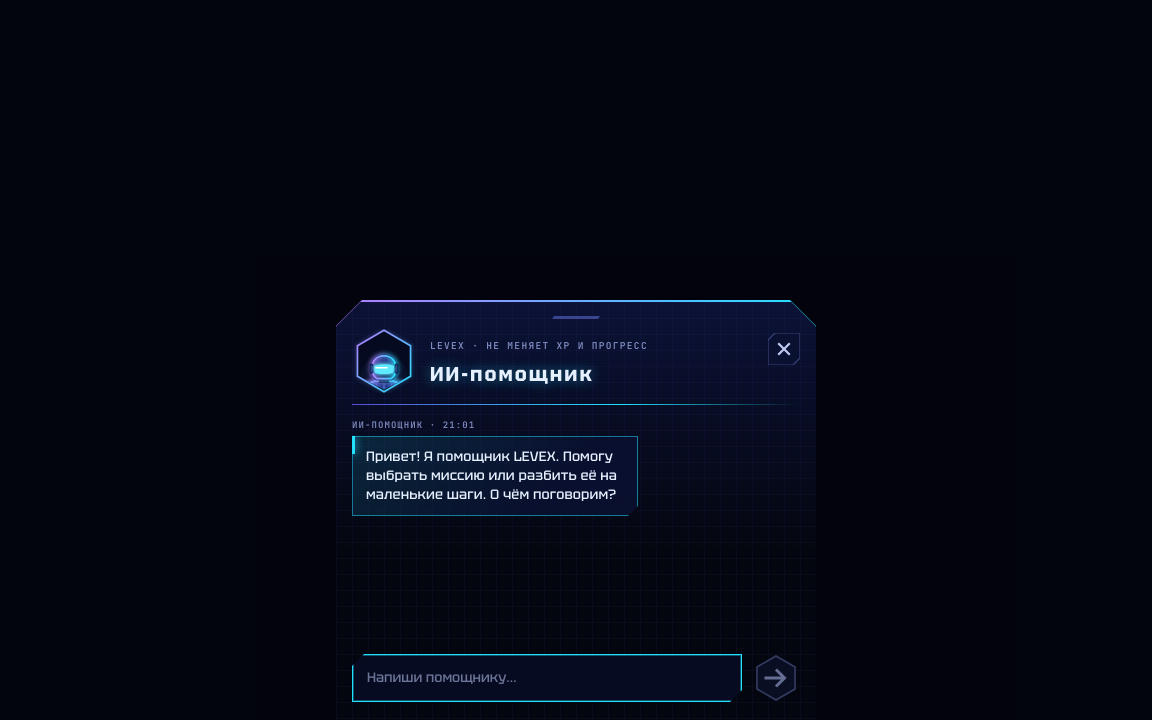
Scenario: AssistantChat › keeps the history for the next turn
The width and height of the screenshot is (1152, 720).
Type "Что делать?" into the text box named "Сообщение помощнику". click: (547, 678)
box: [352, 654, 742, 702]
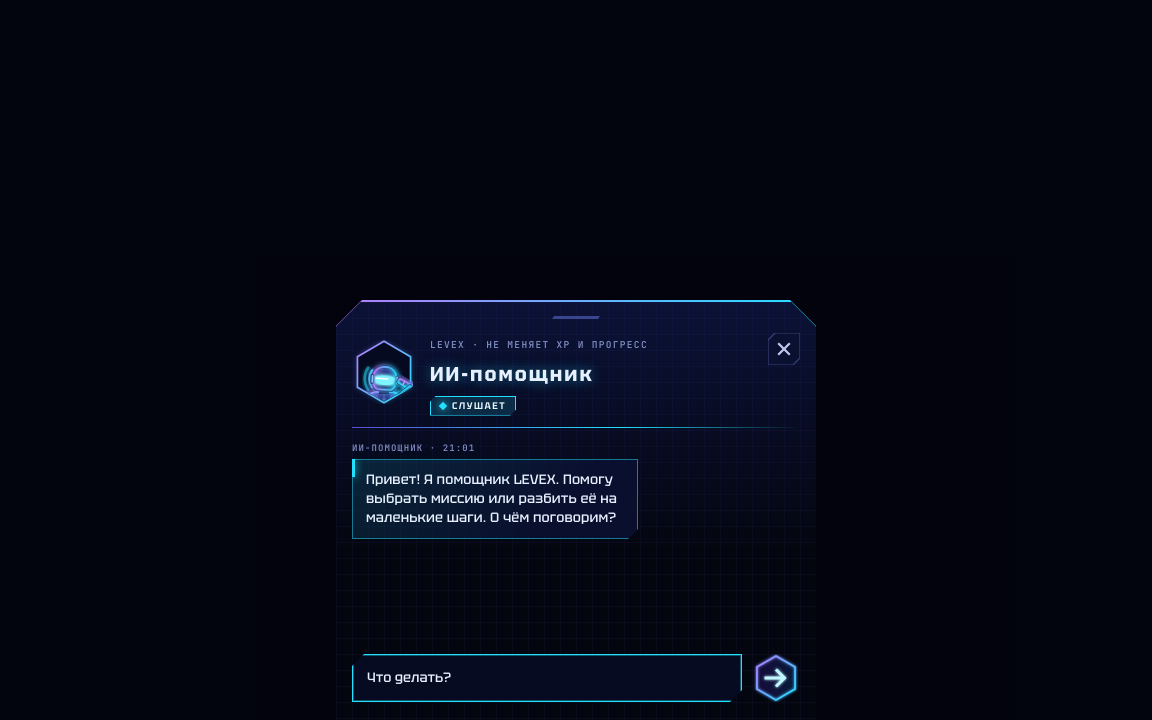
Click the button named "Отправить". click: click(776, 678)
box: [752, 654, 800, 702]
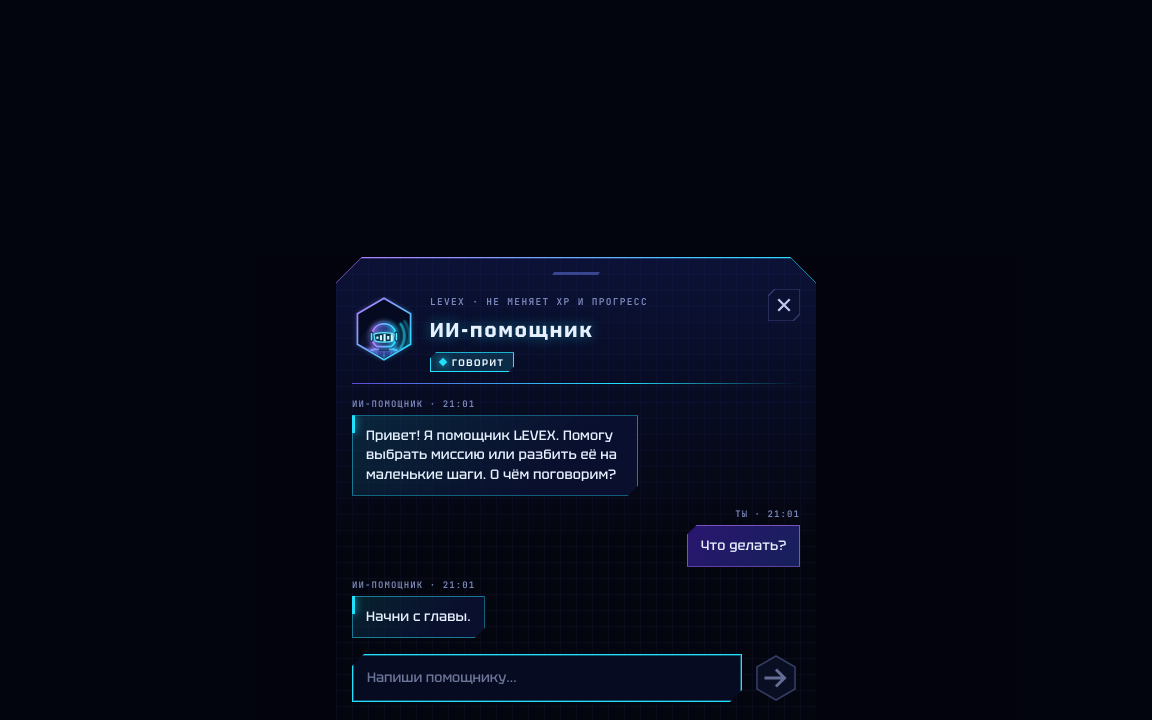
Result: the text "Начни с главы." is shown at [352, 596, 485, 638]
Type "А потом?" into the text box named "Сообщение помощнику". click: (547, 678)
box: [352, 654, 742, 702]
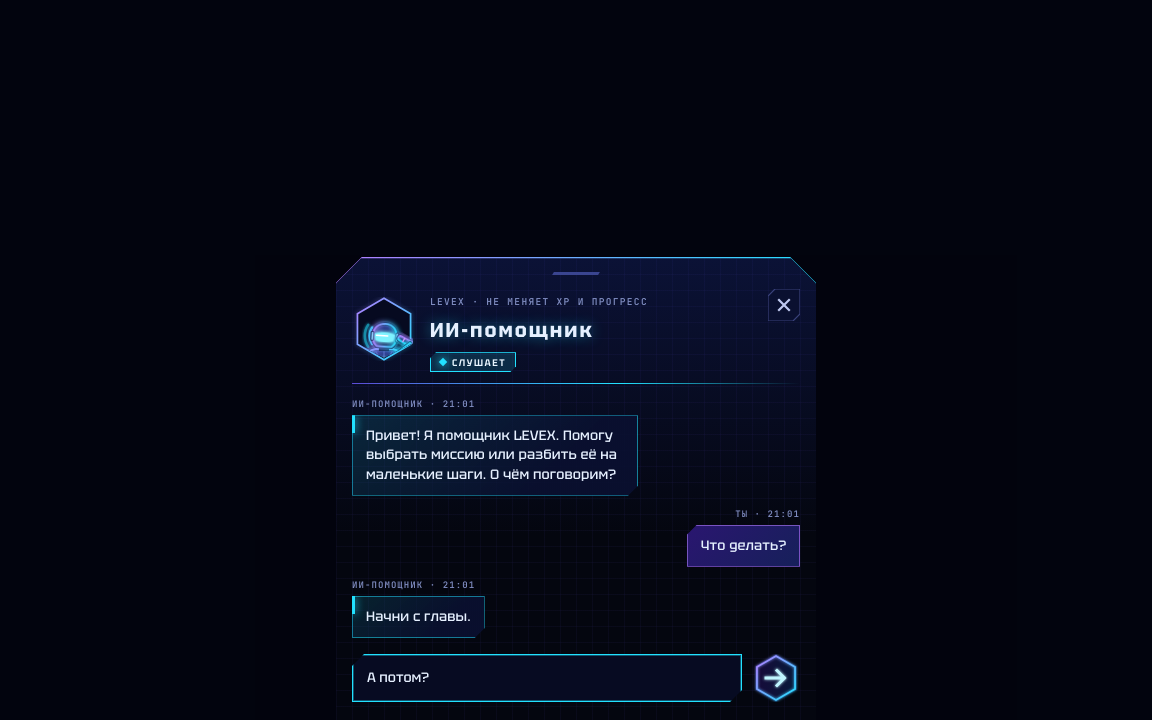
Click the button named "Отправить". click: click(776, 678)
box: [752, 654, 800, 702]
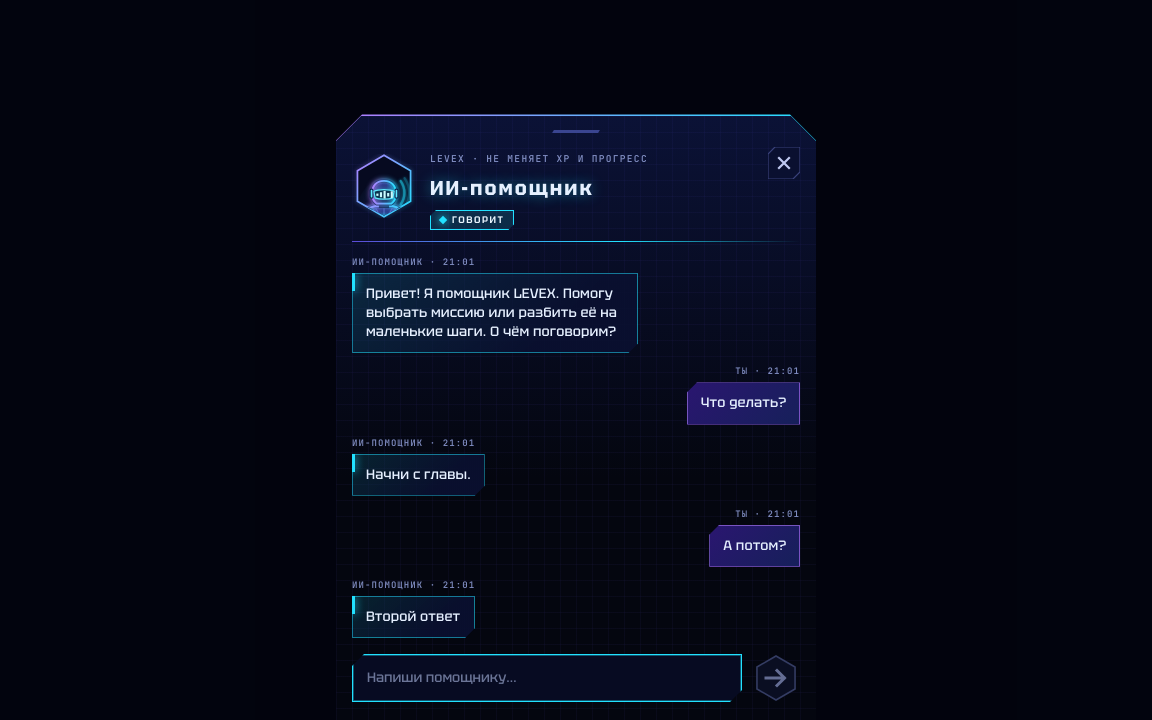
Result: the text "Второй ответ" is shown at [352, 596, 475, 638]
